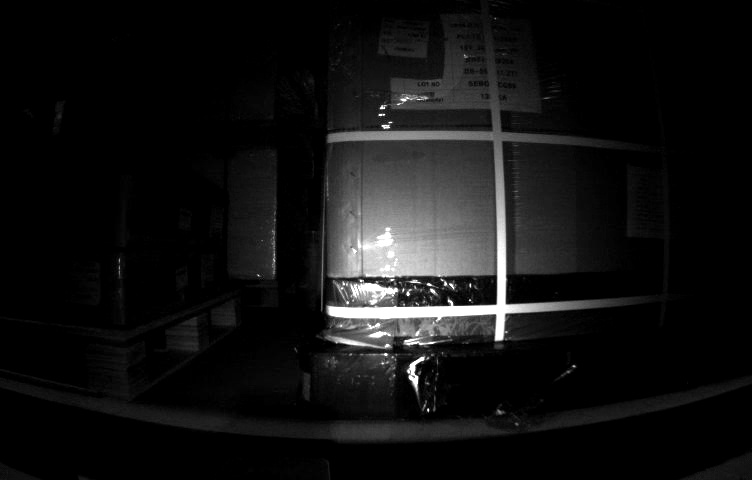True Barcode: (379, 18, 429, 58), (62, 262, 103, 302)
